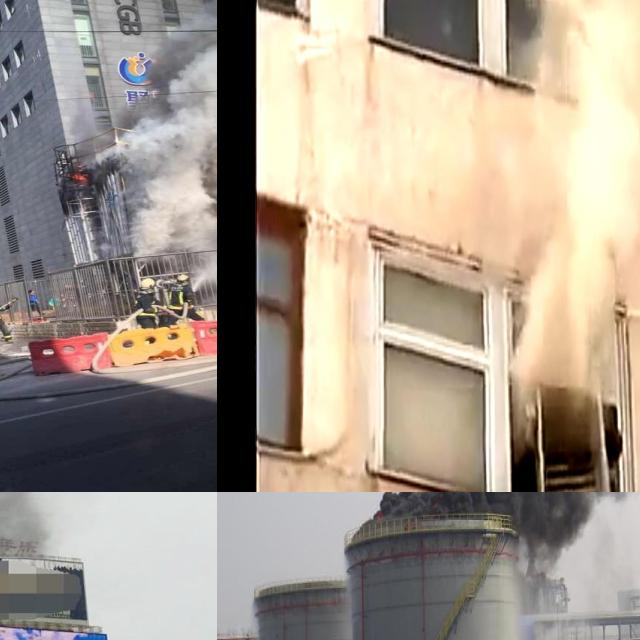smoke: (510, 0, 640, 446), (378, 492, 640, 557), (0, 492, 97, 562)
